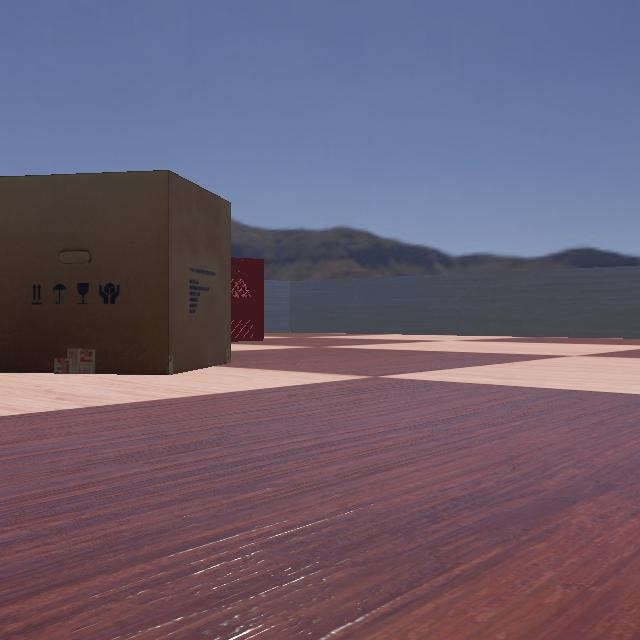cardboard-box: (0, 168, 234, 374)
